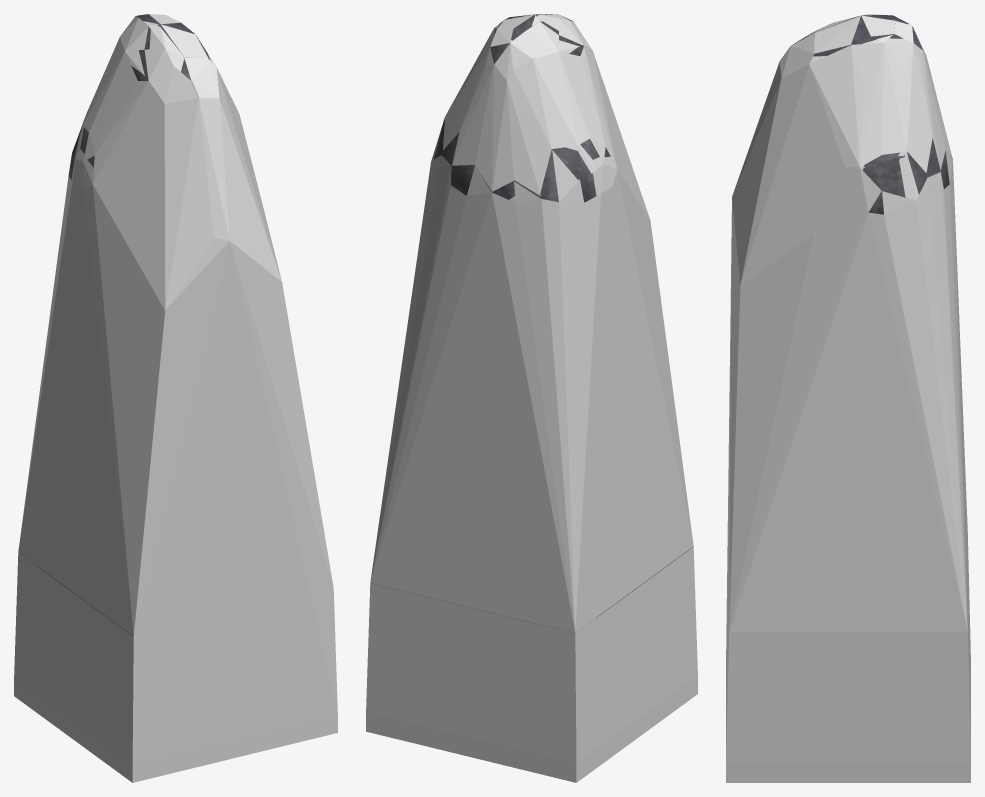
Rendered from statue_knight.low.webp.glb.
The picture shows the model from 3 angles, left to right: view 1: azimuth 30°, elevation 25°; view 2: azimuth 150°, elevation 25°; view 3: azimuth 270°, elevation 25°; orthographic projection. The views are drawn at different scales.
Parts seen in each view (by area): view 1: COL, FRAC_6_l1; view 2: COL, FRAC_2_l1, FRAC_6_l1; view 3: COL, FRAC_2_l1, FRAC_6_l1.
Part boxes in pixels (x1,y1,x2,y2): COL: (14,14,337,782); FRAC_6_l1: (131,14,210,97); COL: (366,14,697,782); FRAC_2_l1: (433,121,610,202); FRAC_6_l1: (444,14,583,120); COL: (726,14,970,782); FRAC_2_l1: (862,138,952,214); FRAC_6_l1: (780,15,923,167).
Size of what is drawn, in the model's own units: 1.56 by 5 by 1.56.
1 material, 1 textured.
